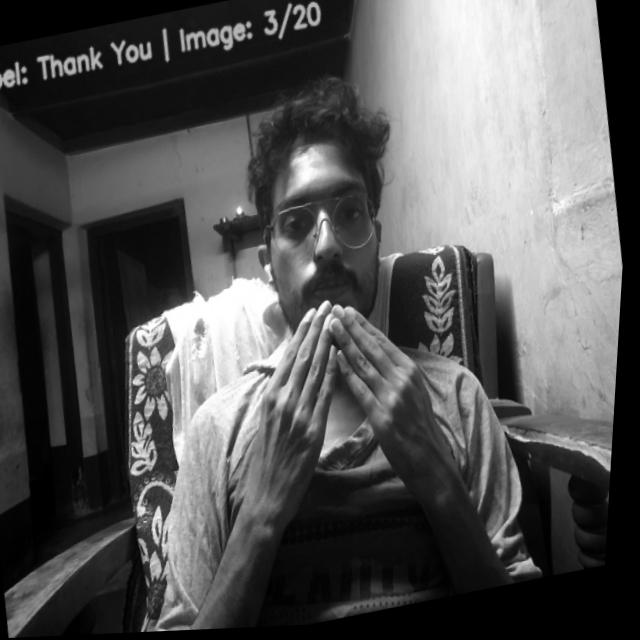Thank You: (209, 277, 472, 572)
